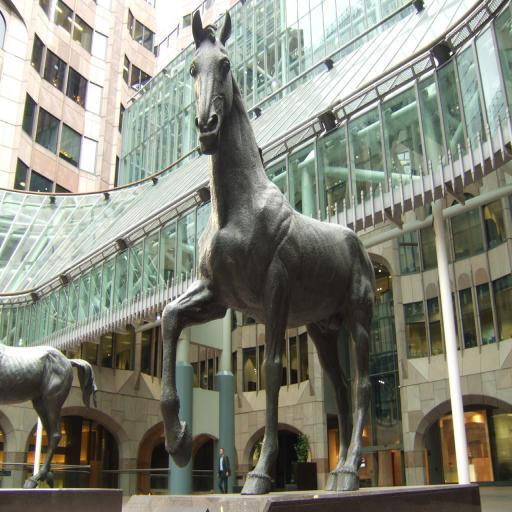horse: (159, 7, 378, 492), (0, 344, 99, 488)
